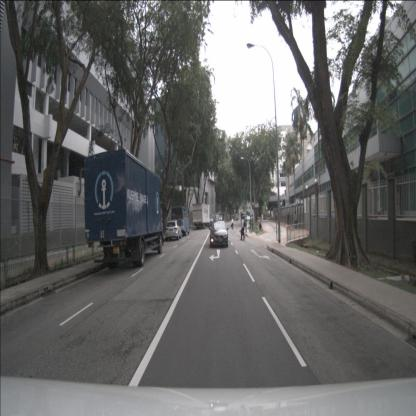human-pedestrian-adult: (240, 217, 245, 242), (248, 214, 252, 233), (244, 215, 248, 233), (294, 211, 297, 230), (251, 214, 254, 233), (231, 217, 234, 230), (287, 212, 289, 224)
vehicle-bus-rigid: (171, 206, 190, 236), (241, 212, 246, 219)
vehicle-car: (210, 221, 228, 247), (165, 220, 182, 241), (209, 219, 215, 226)
vehicle-truck: (84, 148, 164, 268), (192, 203, 210, 229)
